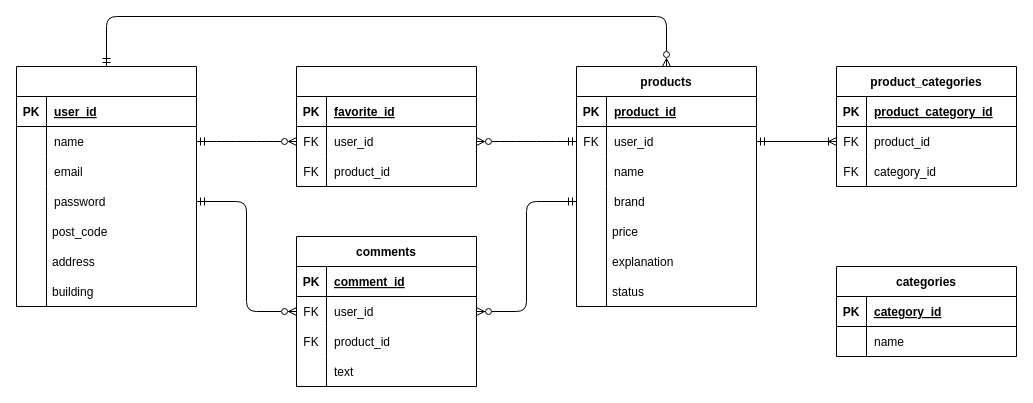
This 1033x403 diagram has some shape labels left out. Each missing label, with the box of its shape:
favorites: (296, 66, 476, 186)
users: (16, 66, 196, 306)
